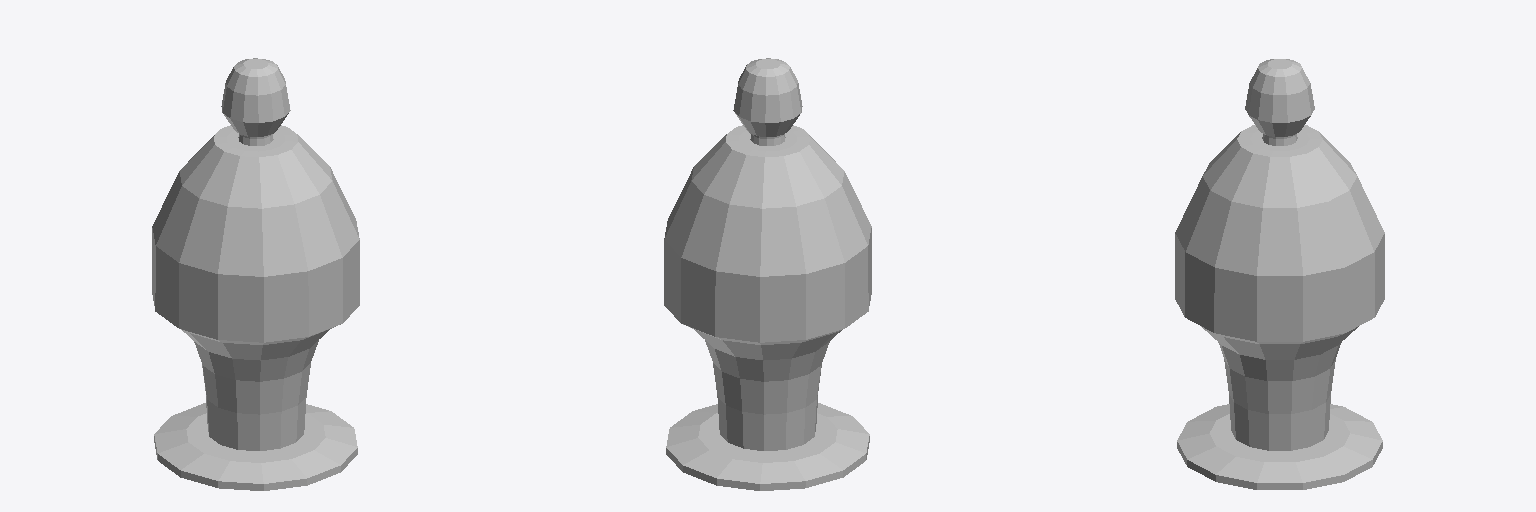
Rendered from human-tall_006.obj.
3 renders of one model, left to right at view 1: azimuth 30°, elevation 25°; view 2: azimuth 150°, elevation 25°; view 3: azimuth 270°, elevation 25°, orthographic.
Visible parts, largest first — view 1: human-tall.006; view 2: human-tall.006; view 3: human-tall.006.
Boxes of the visible parts, x1=… form: human-tall.006: x1=152, y1=58, x2=359, y2=490; human-tall.006: x1=664, y1=58, x2=871, y2=490; human-tall.006: x1=1175, y1=59, x2=1384, y2=489.
Size of the model in its own units: 0.8691 by 1.79 by 0.8915.